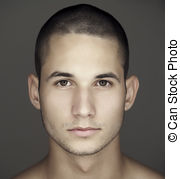face: (19, 1, 140, 157)
